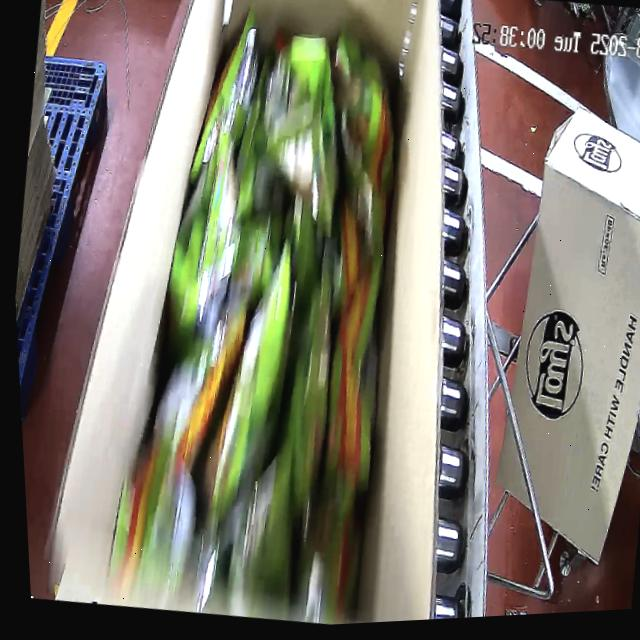YOGURT_HERB: (75, 0, 440, 636)
